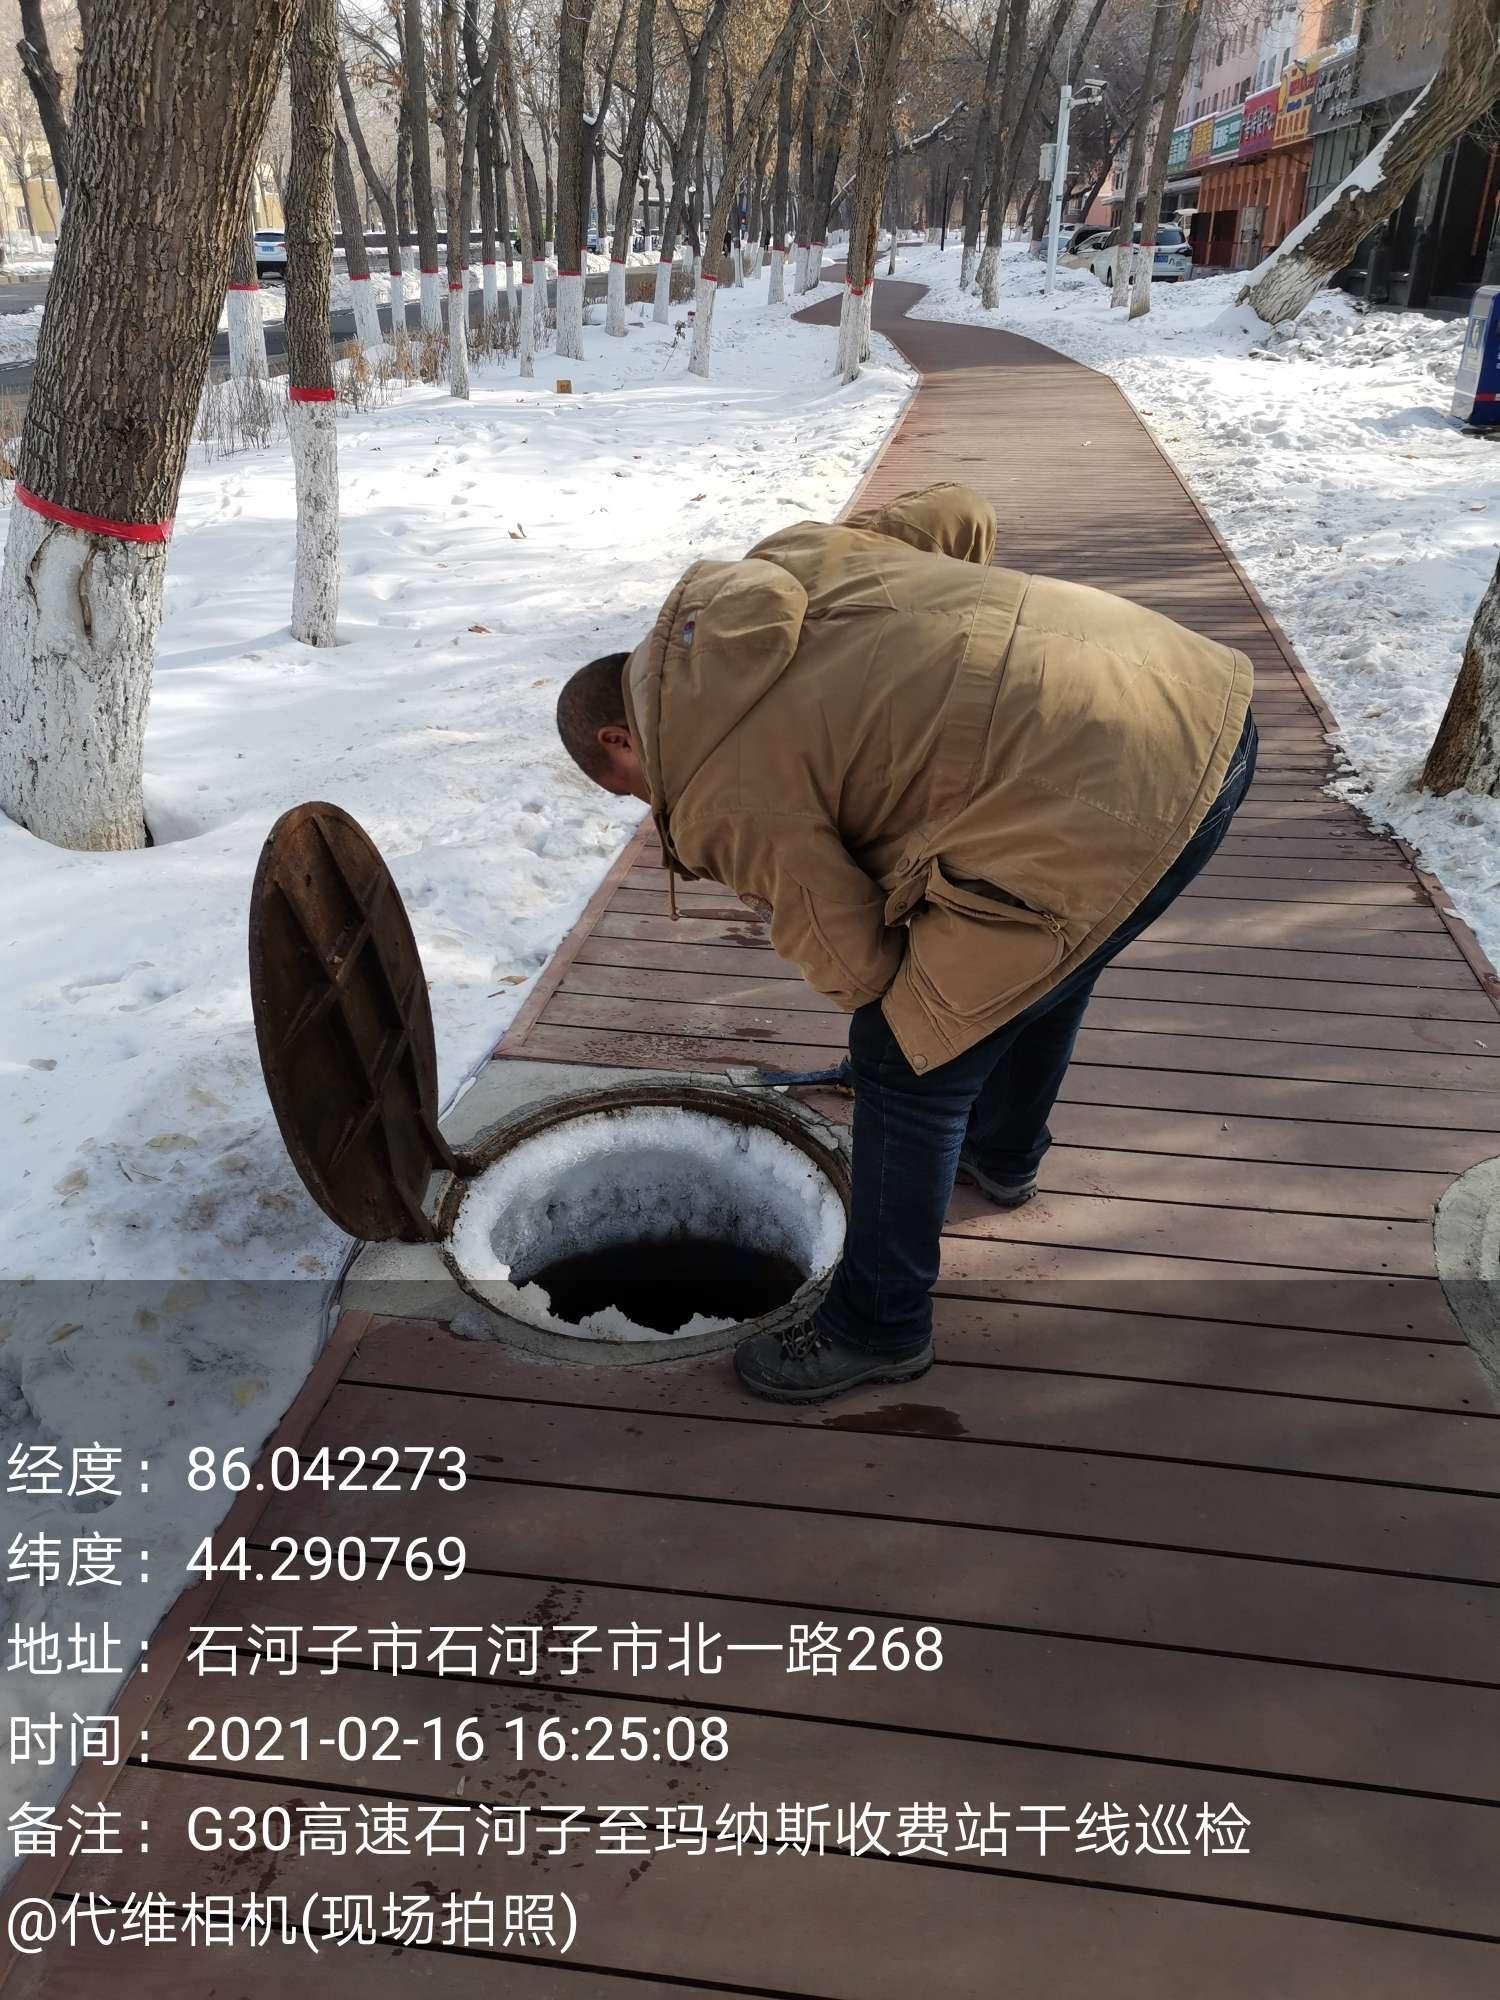wellcover: (211, 791, 867, 1397)
